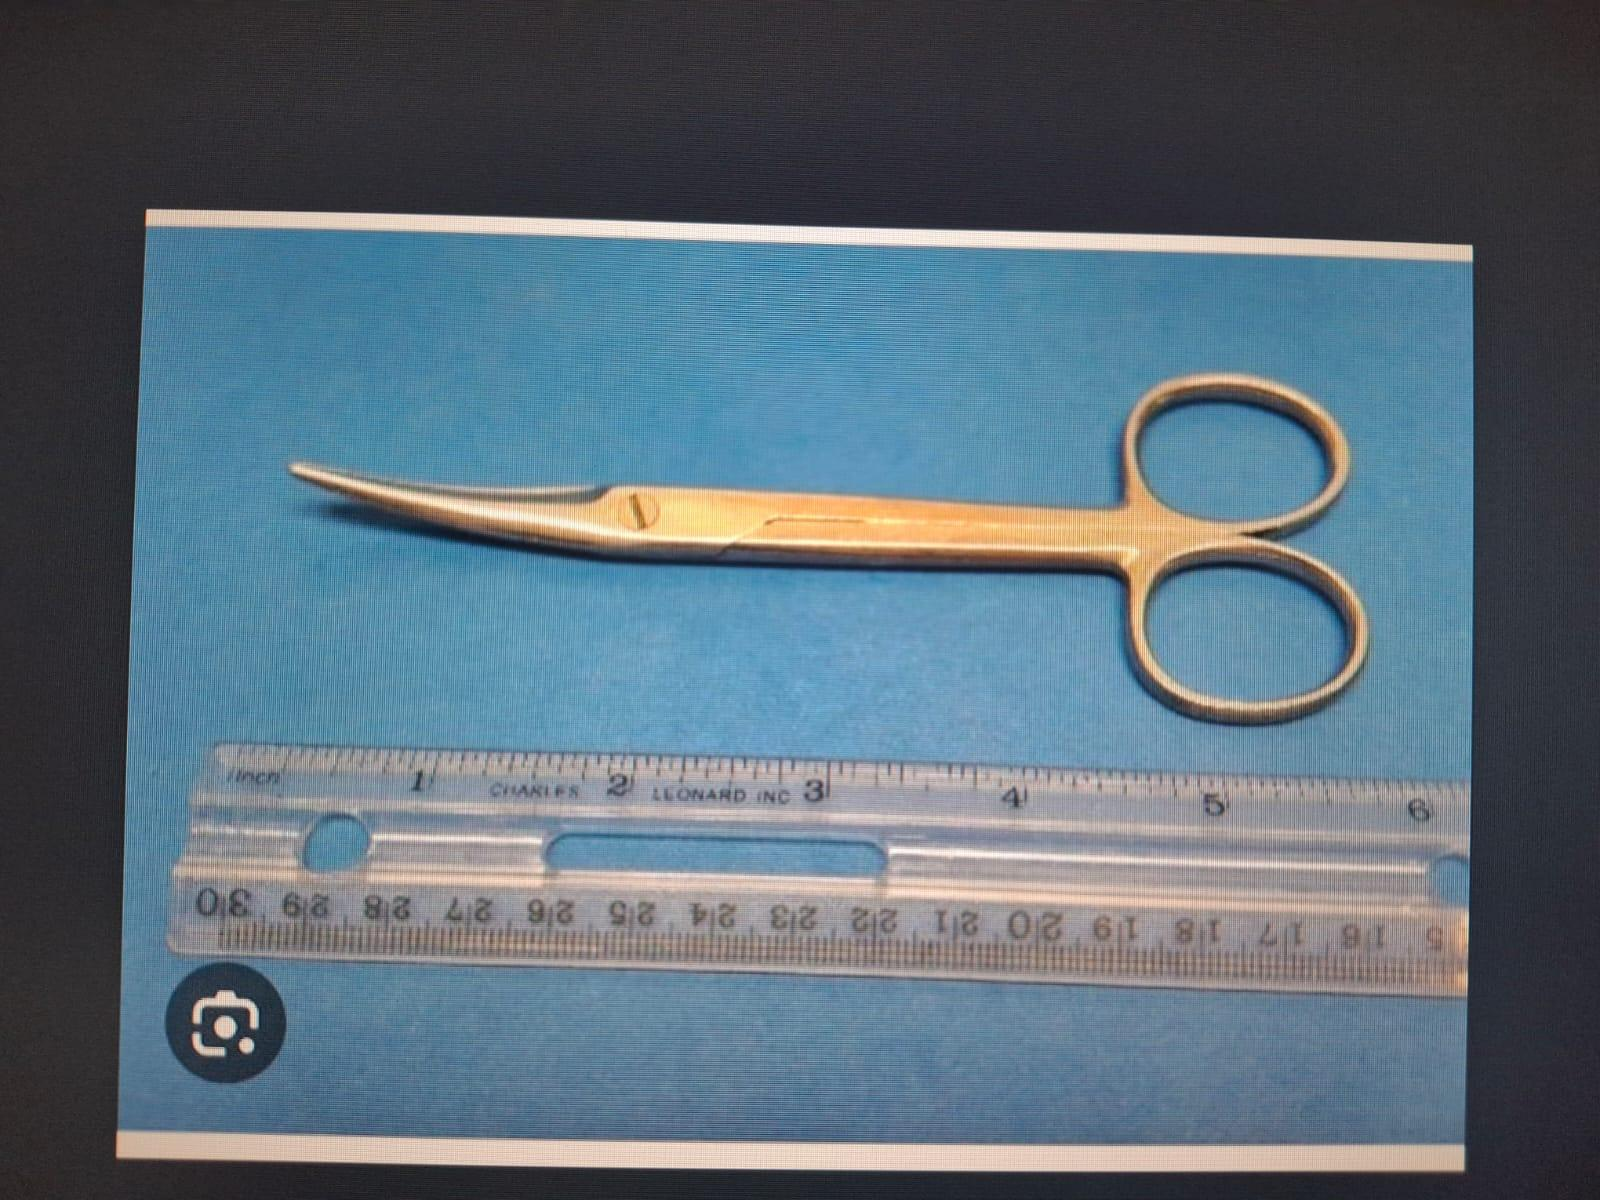Curved Mayo: (262, 337, 1392, 750)
